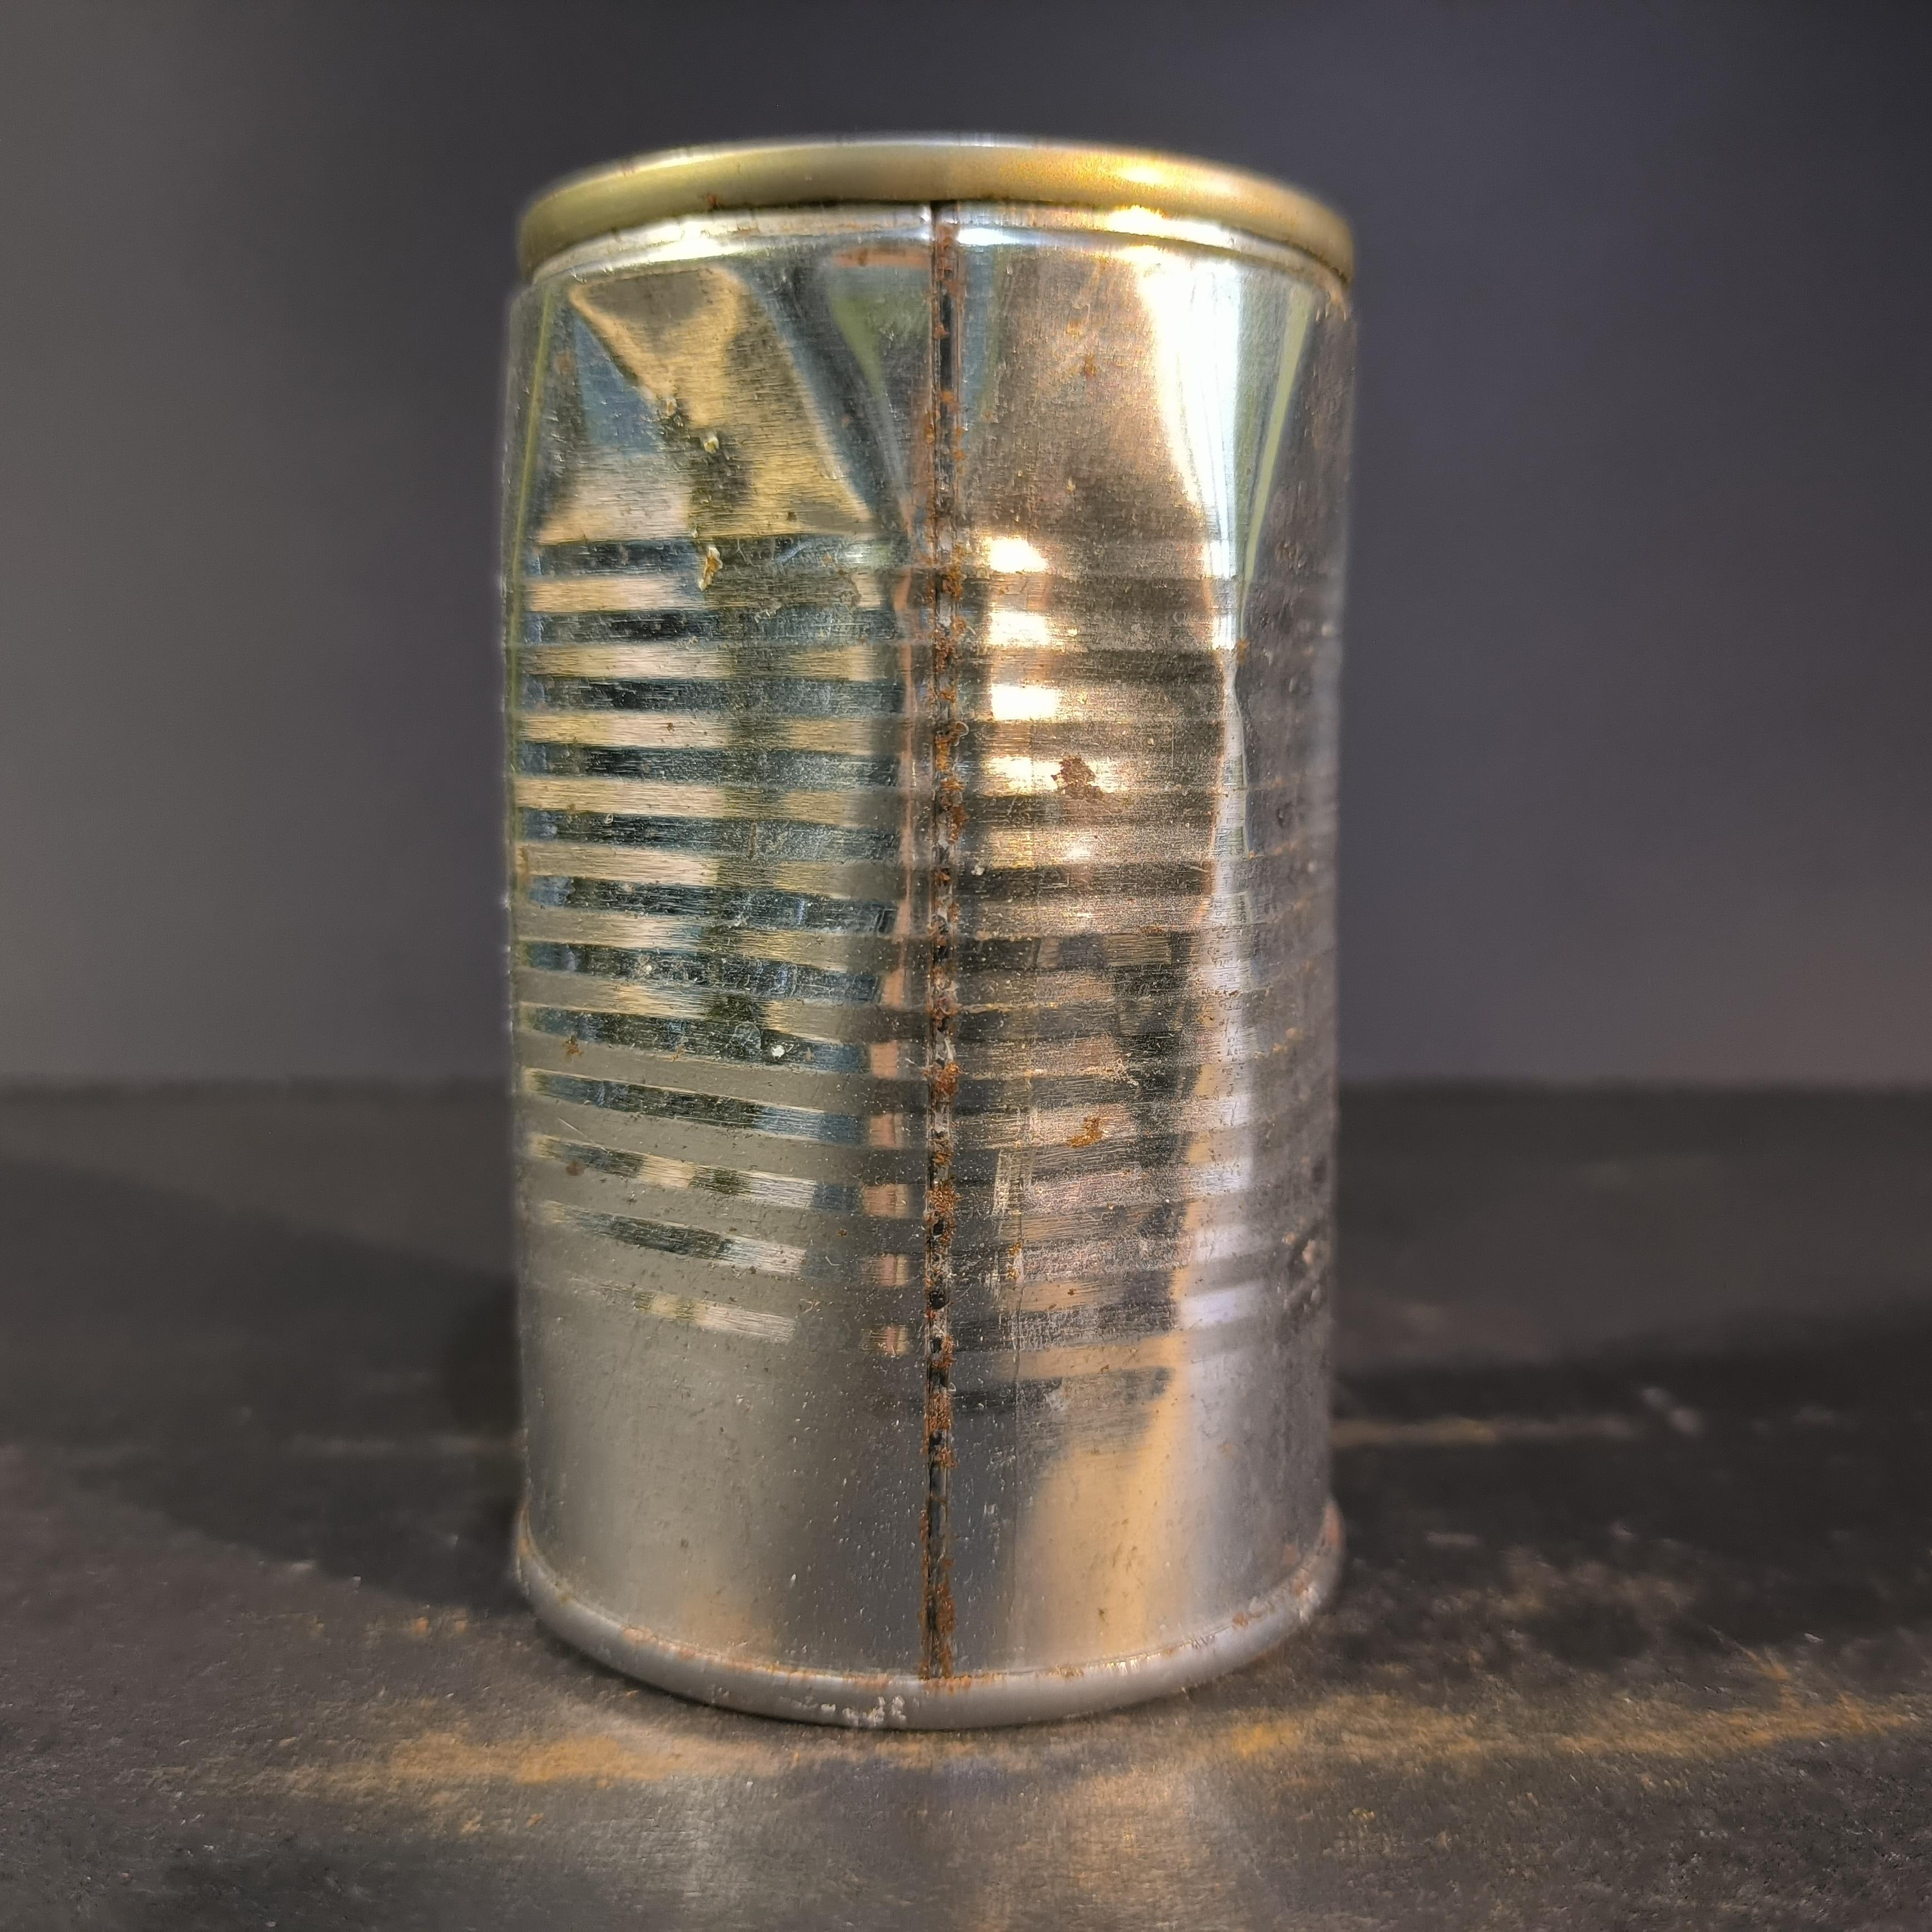Dented: (451, 126, 1385, 1764)
